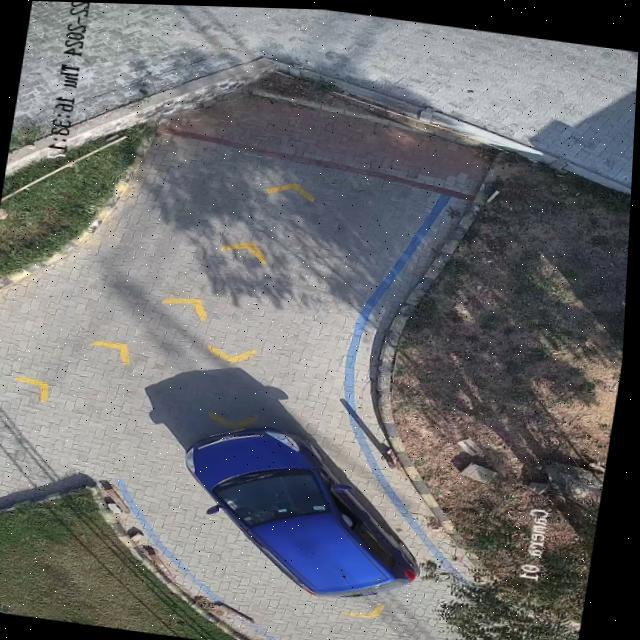car: (189, 424, 424, 594)
